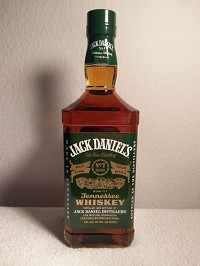Jack Daniel: (59, 6, 141, 249)
